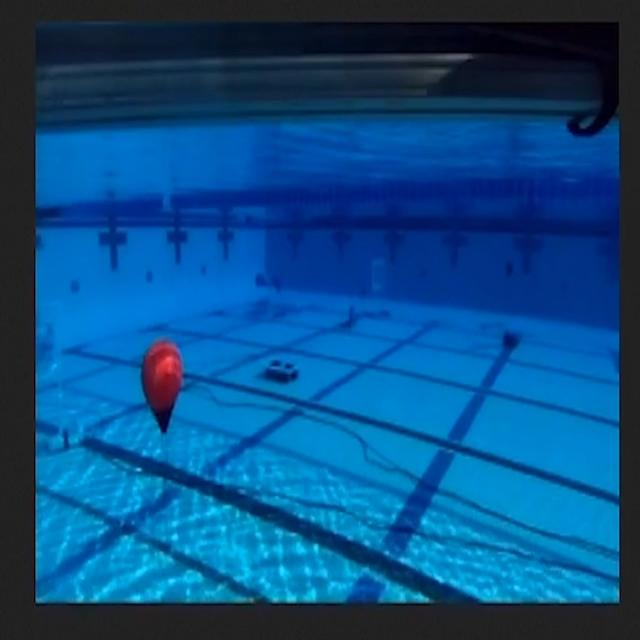Buoy: (139, 326, 190, 453)
